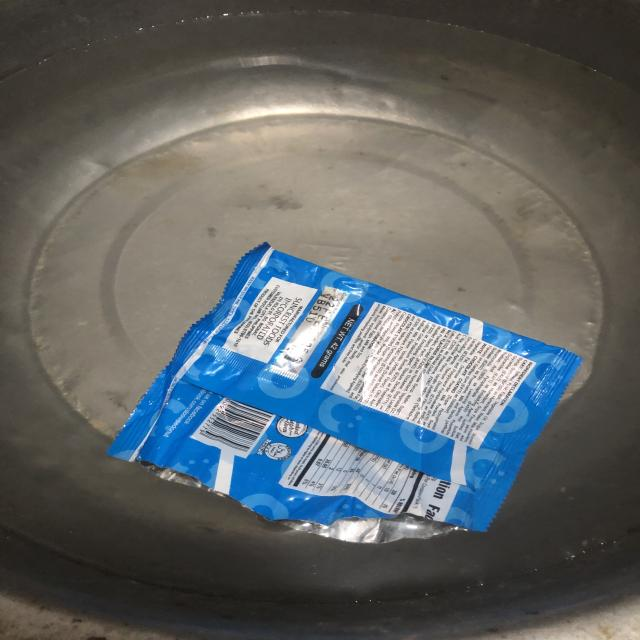Plastic Wrapper: (107, 243, 581, 544)
